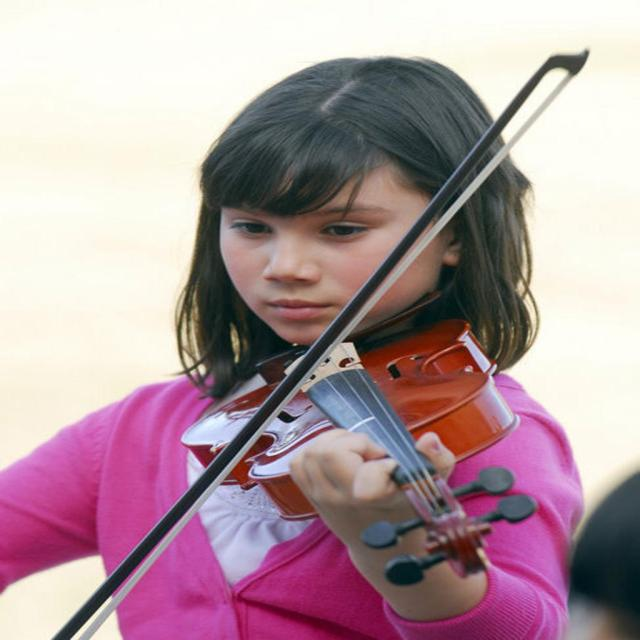Face: (211, 153, 462, 335)
